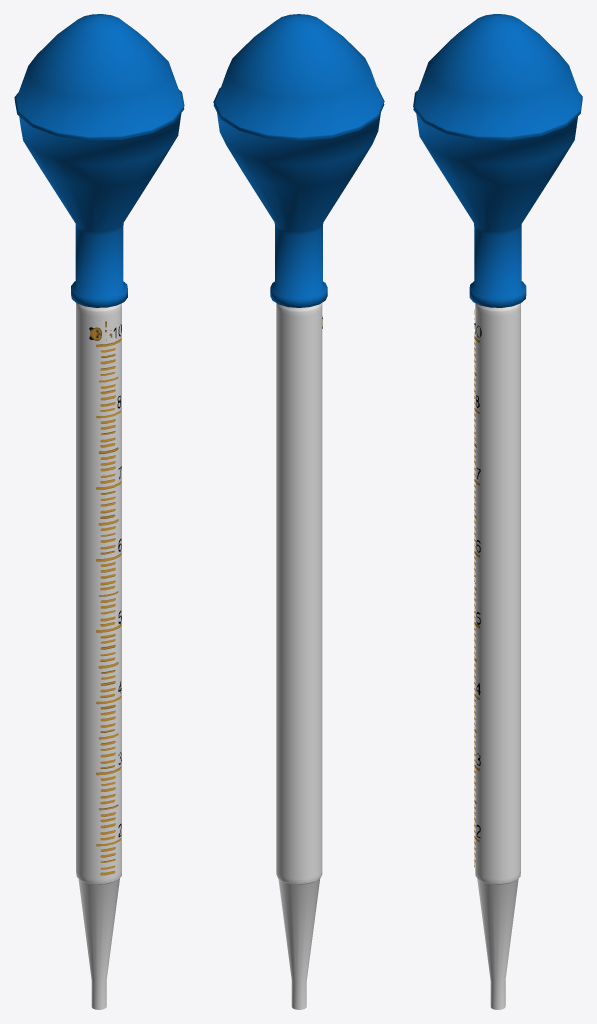
File: pipette_bleu.gltf
3 views of the same model, side by side, from view 1: azimuth 30°, elevation 25°; view 2: azimuth 150°, elevation 25°; view 3: azimuth 270°, elevation 25° (orthographic).
Parts seen in each view (by area): view 1: Dropper_1; view 2: Dropper_1; view 3: Dropper_1.
Boxes of the visible parts, left/top/right/bottom form: Dropper_1: left=14, top=14, right=184, bottom=1009; Dropper_1: left=213, top=14, right=384, bottom=1009; Dropper_1: left=413, top=14, right=582, bottom=1009.
Bounding box in the file's own units: 0.0626 × 0.4027 × 0.0626.
3 materials, 1 textured.
